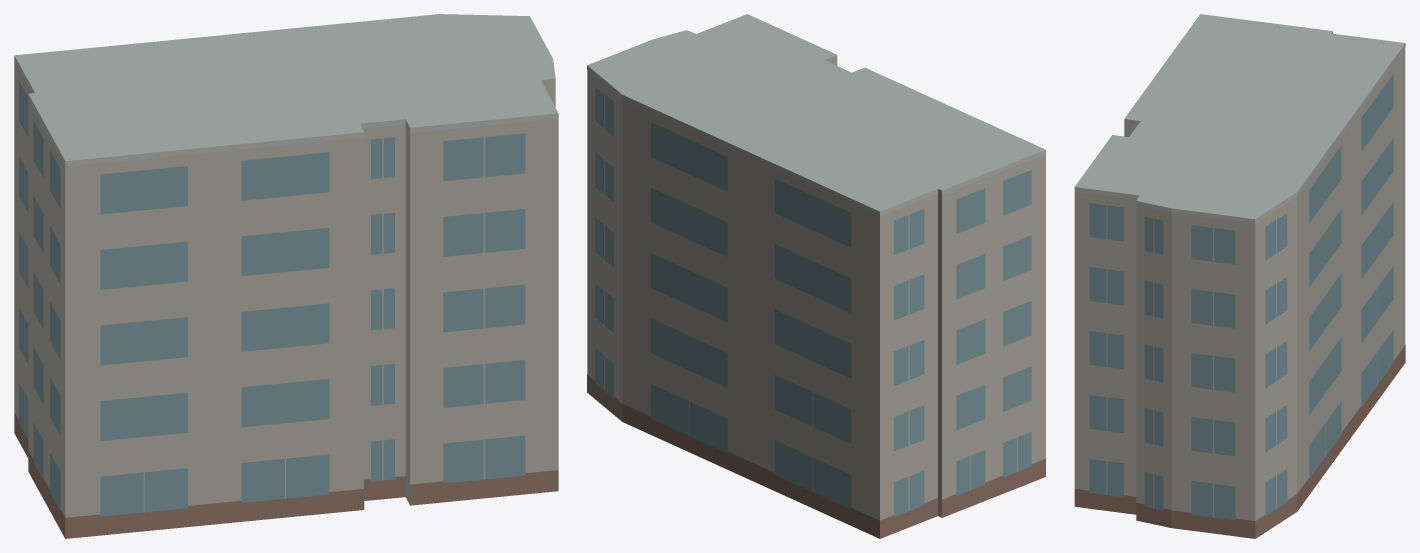
The model's file is survey-upis-32920114.glb.
3 views of the same model, side by side, from view 1: azimuth 30°, elevation 25°; view 2: azimuth 150°, elevation 25°; view 3: azimuth 270°, elevation 25° (orthographic). The views are drawn at different scales.
Parts seen in each view (by area): view 1: survey-upis-32920114.tmp; view 2: survey-upis-32920114.tmp; view 3: survey-upis-32920114.tmp.
Boxes of the visible parts, box(x1,y1,x2,y2) form: survey-upis-32920114.tmp: box(14, 14, 558, 538); survey-upis-32920114.tmp: box(587, 14, 1045, 538); survey-upis-32920114.tmp: box(1074, 14, 1405, 538).
Bounding box in the file's own units: 24.1 × 17.5 × 16.43.
